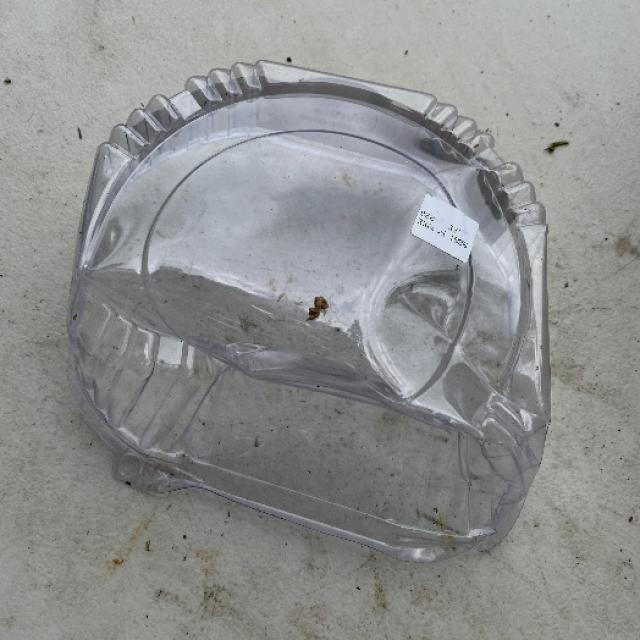inorganic: (72, 59, 557, 568)
